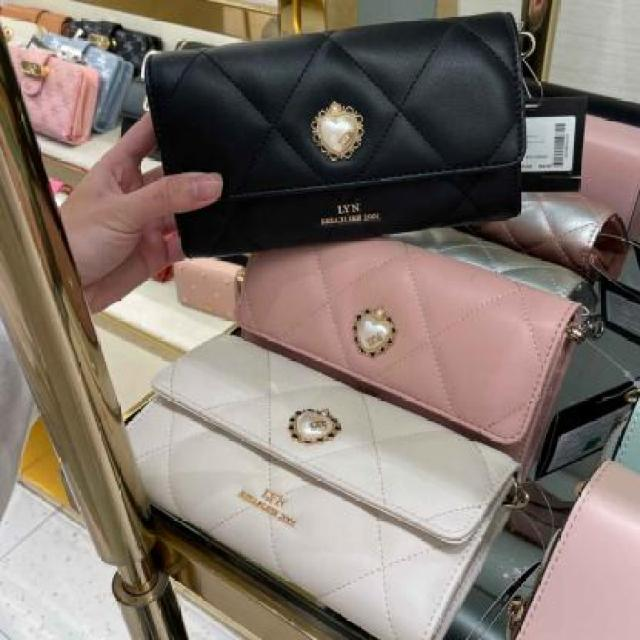Bag: (110, 322, 556, 636), (132, 18, 548, 274), (219, 209, 595, 466)
